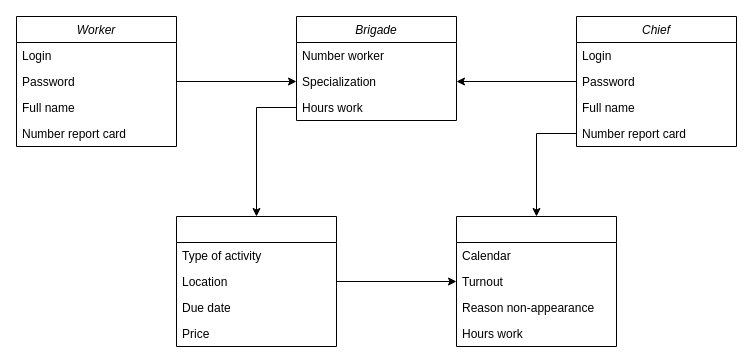
The diagram is 753 pixels wide and 363 high, and some of its shapes have lost their labels. The box of each missing label's shape, as (x1, y1, x2, y2) in pixels:
Report card: (456, 216, 616, 346)
Scope of work (object): (176, 216, 336, 346)
